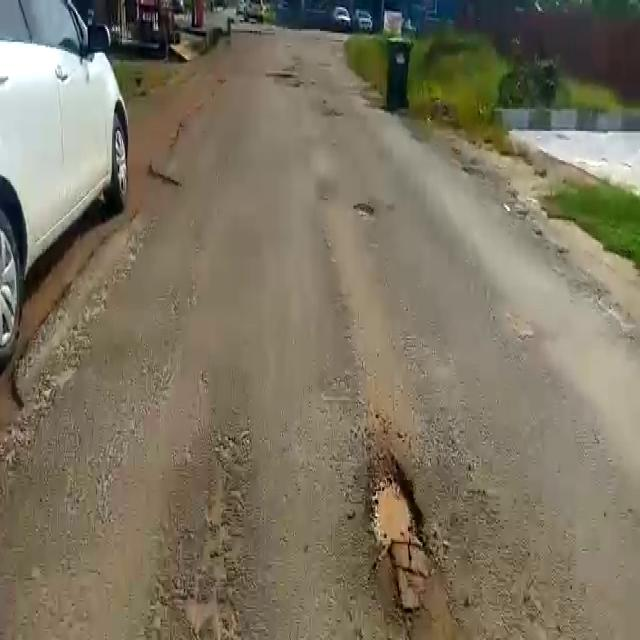Pothole: (360, 448, 432, 600), (354, 200, 376, 220)
